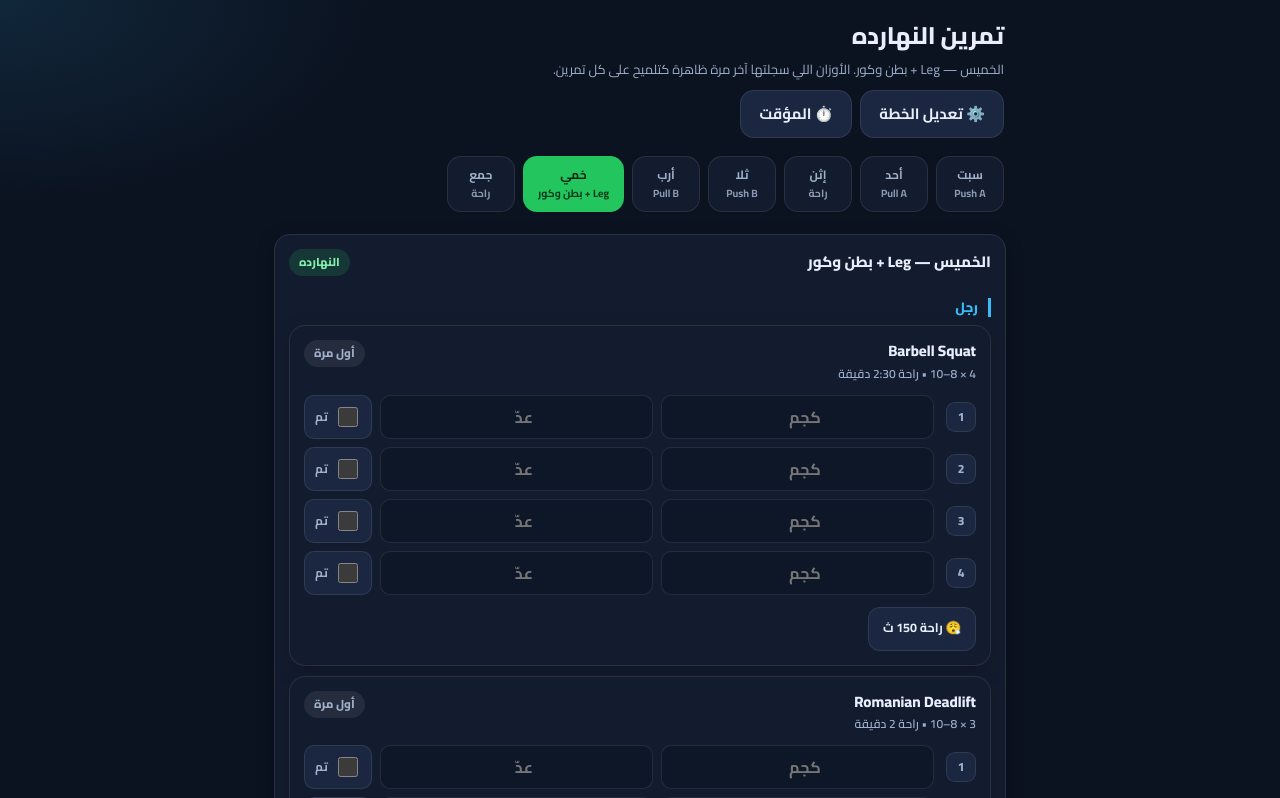
Test case: WorkoutPage › shows a rest message on rest days (Monday)
This screenshot has width=1280, height=798.
Click the button "إثن راحة" at (818, 184), box [784, 156, 852, 212]
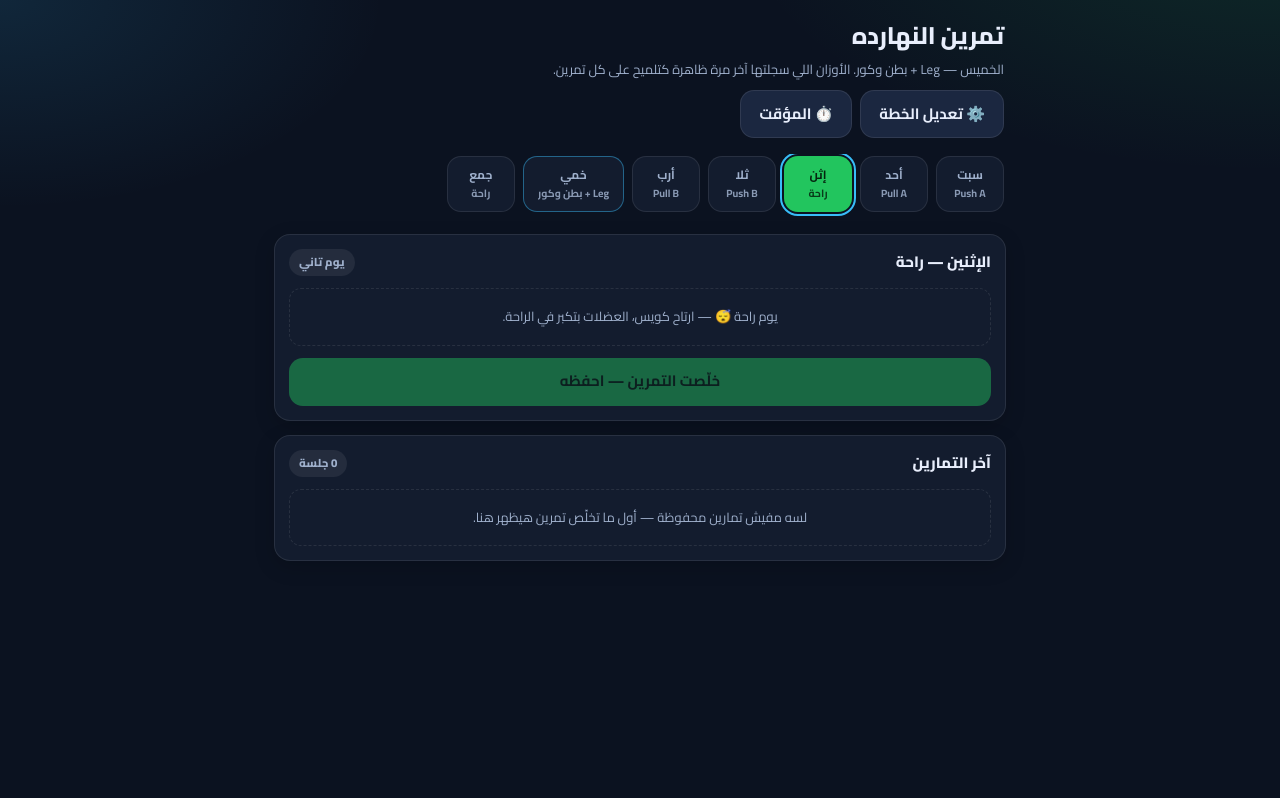
Result: the text "يوم راحة 😴 — ارتاح كويس، العضلات بتكبر في الراحة." is shown at [289, 288, 991, 346]
Result: the button "خلّصت التمرين — احفظه" is disabled at [289, 358, 991, 406]
